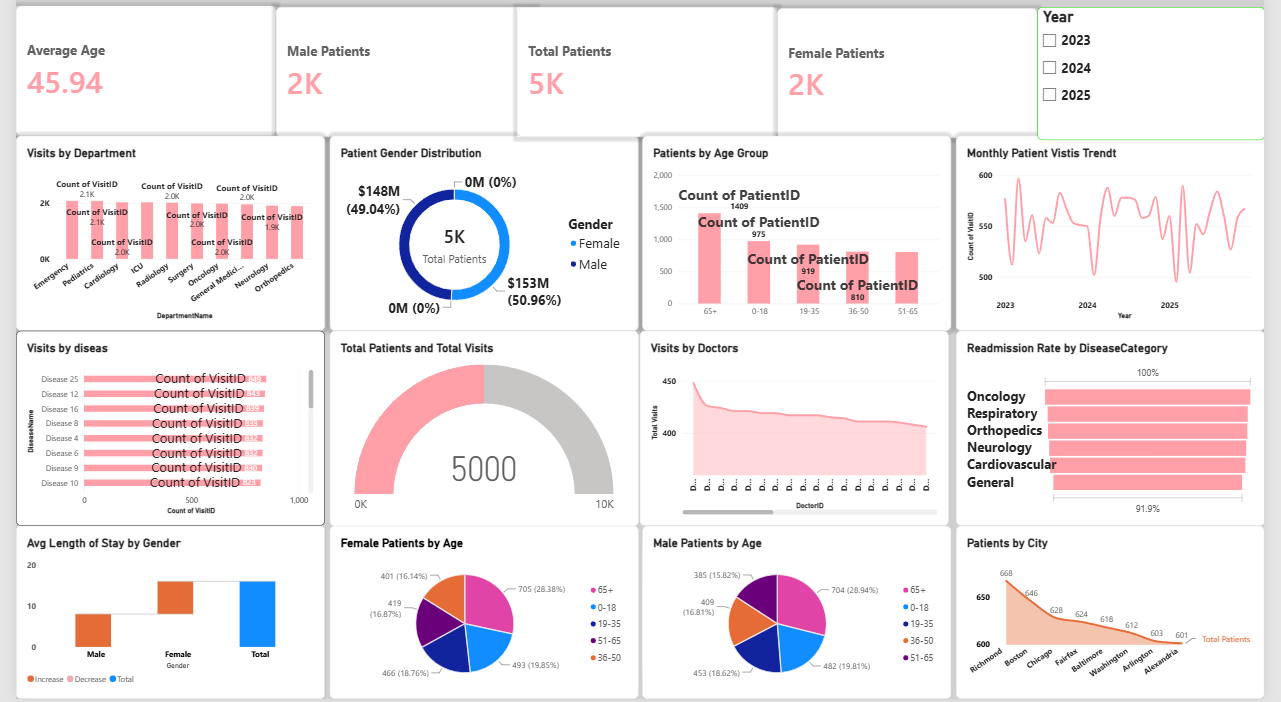

What the dashboard file says about the page in this screenshot:
{"tool":"powerbi","page":{"name":"Page 2","canvas":[1920,1080],"ordinal":1},"visuals":[{"type":"cardVisual","fields":{"Data":["DimPatient.Average Age"]},"box":[315.4,13.5,344.2,200],"z":0},{"type":"cardVisual","fields":{"Data":["DimPatient.Male Patients"]},"box":[659.6,13.5,321.2,200],"z":1000},{"type":"cardVisual","fields":{"Data":["FactVisits.Total Patients"]},"box":[0,17.3,315.4,200],"z":2000},{"type":"cardVisual","fields":{"Data":["DimPatient.Female Patients"]},"box":[984.6,13.5,315.4,200],"z":3000},{"type":"clusteredColumnChart","title":"Patients by Age Group","fields":{"Y":["Count(FactVisits.PatientID)"],"Category":["DimPatient.Age Group"]},"box":[962.7,213.5,475,300],"z":4000},{"type":"clusteredColumnChart","title":"Visits by Department","fields":{"Category":["DimDepartment.DepartmentName"],"Y":["CountNonNull(FactVisits.VisitID)"]},"box":[0,213.5,475,300],"z":5000},{"type":"clusteredBarChart","title":"Visits by diseas","fields":{"Category":["DimDisease.DiseaseName"],"Y":["CountNonNull(FactVisits.VisitID)"]},"box":[0,513.9,475,300],"z":6000},{"type":"lineChart","title":"Monthly Patient Vistis Trendt","fields":{"Y":["CountNonNull(FactVisits.VisitID)"],"Category":["DimDate.Date.Variation.Date Hierarchy.Year","DimDate.Date.Variation.Date Hierarchy.Month"]},"box":[1445.9,213.5,475,300],"z":7000},{"type":"gauge","fields":{"TargetValue":["FactVisits.Total Visits"],"Y":["FactVisits.Total Patients"]},"box":[483.2,513.9,475,300.4],"z":8000},{"type":"areaChart","title":"Visits by Doctors","fields":{"Y":["FactVisits.Total Visits"],"Category":["FactVisits.DoctorID"]},"box":[959.1,513.9,475,300],"z":9000},{"type":"funnel","fields":{"Y":["FactVisits.Readmission Rate"],"Category":["DimDisease.DiseaseCategory"]},"box":[1445.9,513.9,475,300],"z":10000},{"type":"slicer","fields":{"Values":["DimDate.Year"]},"box":[1300,13.5,203.8,203.8],"z":11000},{"type":"waterfallChart","title":"Avg Length of Stay by Gender","fields":{"Category":["DimPatient.Gender"],"Y":["FactVisits.Avg Length of Stay"]},"box":[0,814.3,475,266],"z":12000},{"type":"ribbonChart","box":[962.7,846.9,178,200],"z":13000},{"type":"pieChart","title":"Female Patients by Age","fields":{"Category":["DimPatient.Age Group"],"Y":["DimPatient.Female Patients"]},"box":[483,814,475,266],"z":14000},{"type":"pieChart","title":"Male Patients by Age ","fields":{"Category":["DimPatient.Age Group"],"Y":["DimPatient.Male Patients"]},"box":[962.7,814.3,475,266],"z":15000},{"type":"stackedAreaChart","title":"Patients by City","fields":{"Category":["DimPatient.City"],"Y":["FactVisits.Total Patients"]},"box":[1446,814,474,266],"z":16000},{"type":"tableEx","fields":{"Values":["DimDisease.DiseaseCategory"]},"box":[1518.2,14.5,303.6,203.6],"z":17000},{"type":"stackedAreaChart","title":"Patients by Gender and Month","fields":{"Category":["DimDate.MonthName"],"Series":["DimPatient.Gender"],"Y":["FactVisits.Total Patients"]},"box":[474.5,212.7,485.5,300],"z":18000},{"type":"actionButton","box":[0,12.7,100,40],"z":19000}]}

Visuals, with their boxes in screenshot pixels (x1, y1, x2, y2), scaled from the page's 1920x1080 canvas onto the 1281x702 screenshot:
cardVisual - DimPatient.Average Age: crop(210, 9, 440, 139)
cardVisual - DimPatient.Male Patients: crop(440, 9, 654, 139)
cardVisual - FactVisits.Total Patients: crop(0, 11, 210, 141)
cardVisual - DimPatient.Female Patients: crop(657, 9, 867, 139)
"Patients by Age Group" clusteredColumnChart: crop(642, 139, 959, 334)
"Visits by Department" clusteredColumnChart: crop(0, 139, 317, 334)
"Visits by diseas" clusteredBarChart: crop(0, 334, 317, 529)
"Monthly Patient Vistis Trendt" lineChart: crop(965, 139, 1280, 334)
gauge - FactVisits.Total Visits x FactVisits.Total Patients: crop(322, 334, 639, 529)
"Visits by Doctors" areaChart: crop(640, 334, 957, 529)
funnel - FactVisits.Readmission Rate x DimDisease.DiseaseCategory: crop(965, 334, 1280, 529)
slicer - DimDate.Year: crop(867, 9, 1003, 141)
"Avg Length of Stay by Gender" waterfallChart: crop(0, 529, 317, 701)
ribbonChart: crop(642, 550, 761, 680)
"Female Patients by Age" pieChart: crop(322, 529, 639, 701)
"Male Patients by Age " pieChart: crop(642, 529, 959, 701)
"Patients by City" stackedAreaChart: crop(965, 529, 1280, 701)
tableEx - DimDisease.DiseaseCategory: crop(1013, 9, 1215, 142)
"Patients by Gender and Month" stackedAreaChart: crop(317, 138, 640, 333)
actionButton: crop(0, 8, 67, 34)
